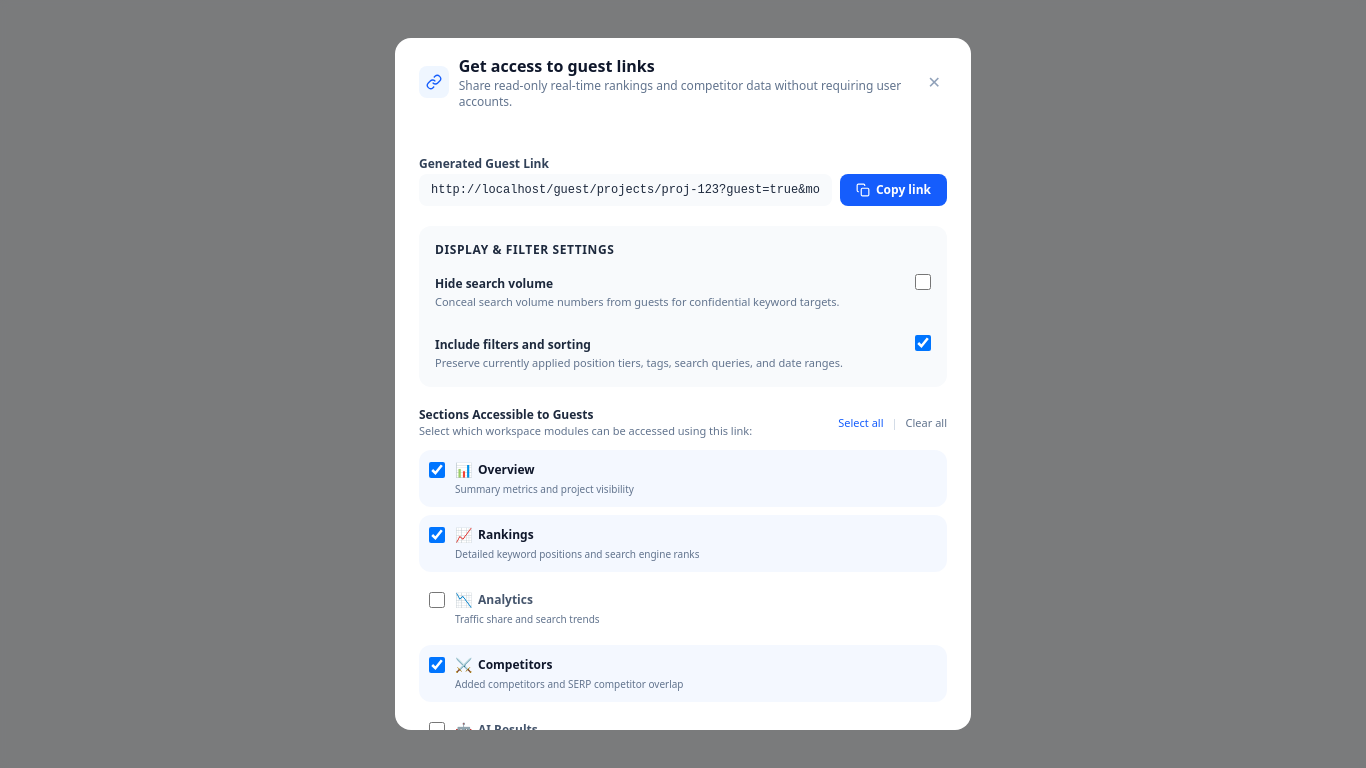
Test: GuestLinkModal Component › copies link to clipboard when clicking Copy link button
The width and height of the screenshot is (1366, 768).
Click the button "Copy link" at (894, 190), box [840, 174, 947, 206]
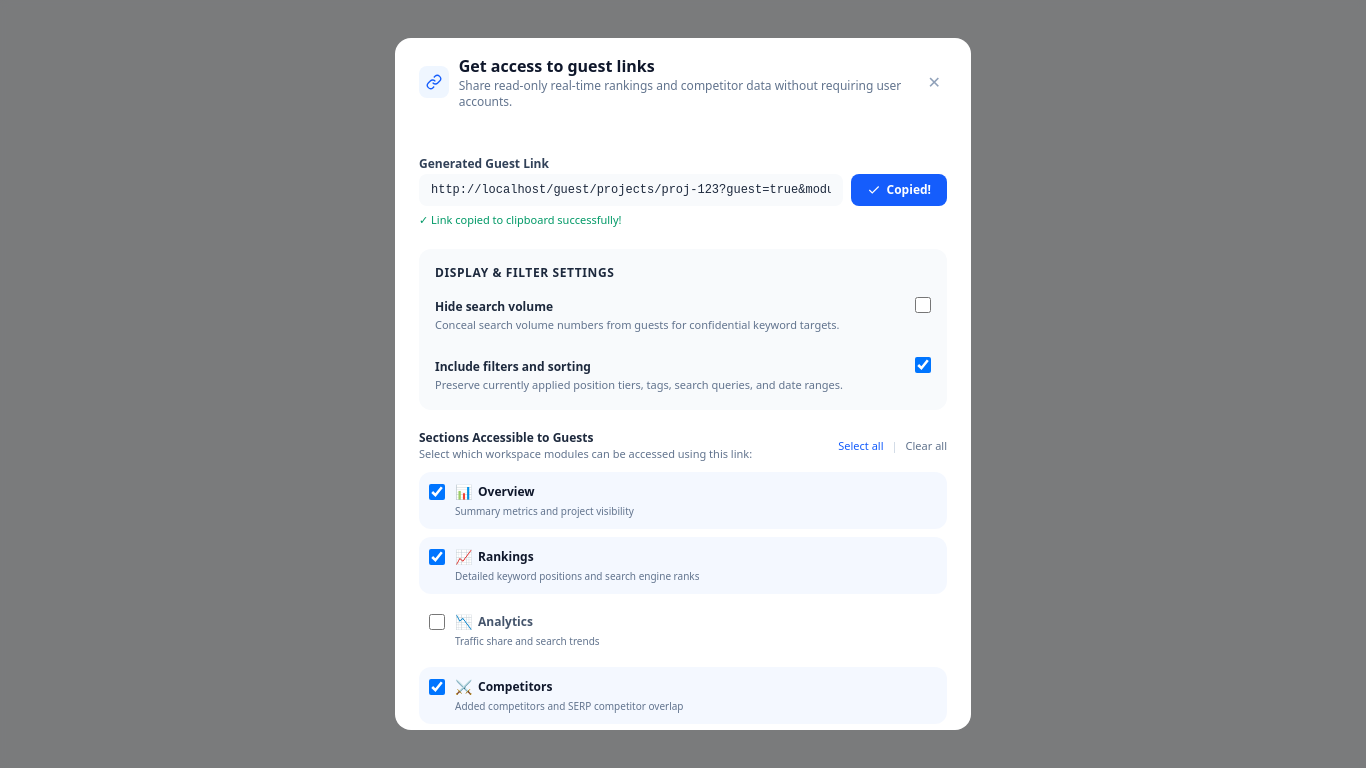
Result: the text "✓ Link copied to clipboard successfully!" is shown at [419, 212, 622, 227]
